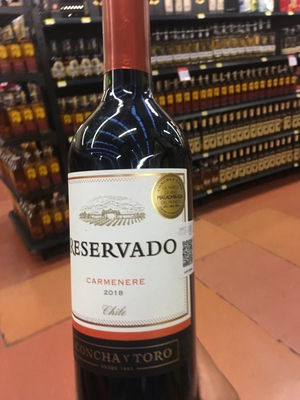reservado carmenere: (71, 8, 204, 400)
